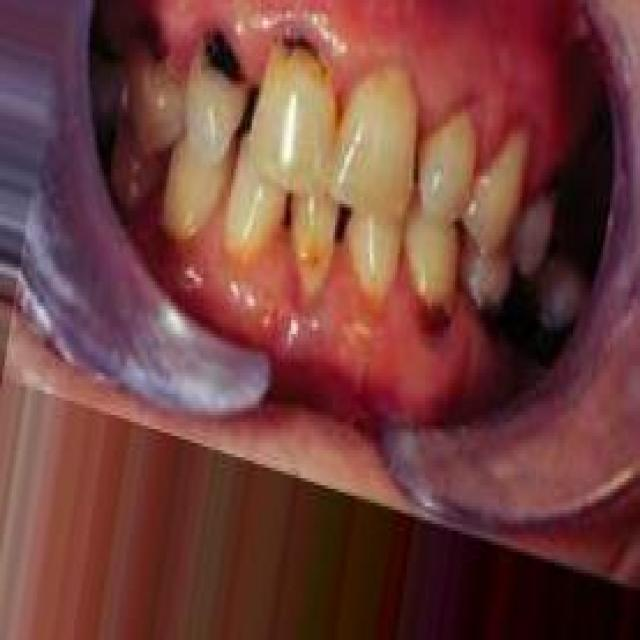caries: (270, 27, 344, 93), (192, 26, 253, 105), (122, 7, 174, 80), (411, 285, 459, 359)
